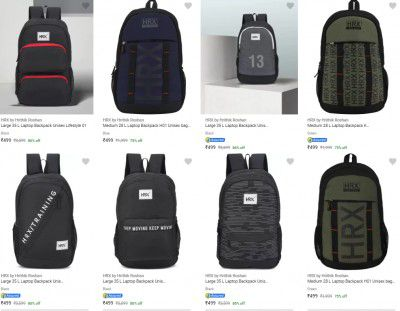backpack: (314, 152, 388, 270), (110, 0, 186, 114), (315, 0, 388, 114), (113, 152, 180, 269), (216, 152, 282, 269), (12, 152, 77, 268), (14, 5, 74, 106), (235, 12, 278, 84)
